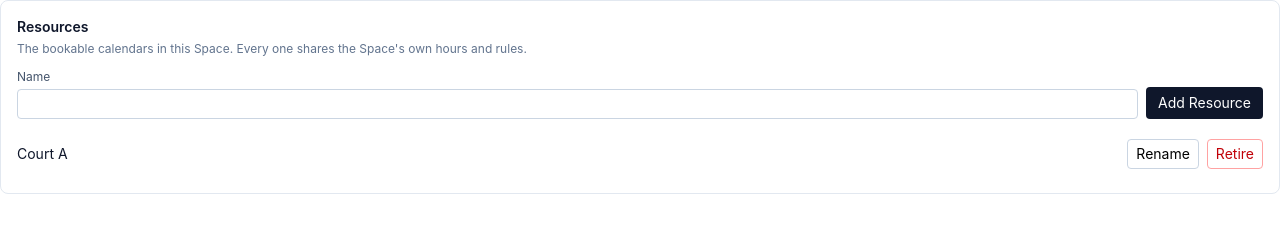
Test: ResourcesPanel › asks before retiring, and cancelling makes no request
Expected: the list item with test id "resource-1" is shown, [17, 131, 1263, 177]
Click the button with test id "resource-1-retire-start".
click(1235, 154)  # box [1207, 139, 1263, 169]
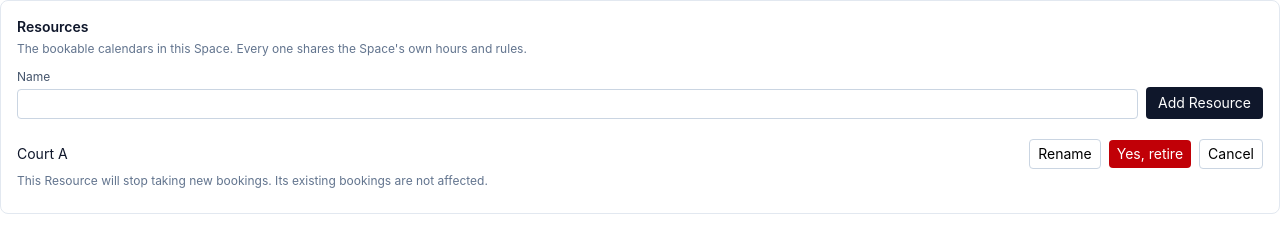
Now the element with test id "resource-1-retire-confirm" is shown, box [1109, 139, 1263, 169]
Click the button with test id "resource-1-retire-cancel".
click(1231, 154)  # box [1199, 139, 1263, 169]
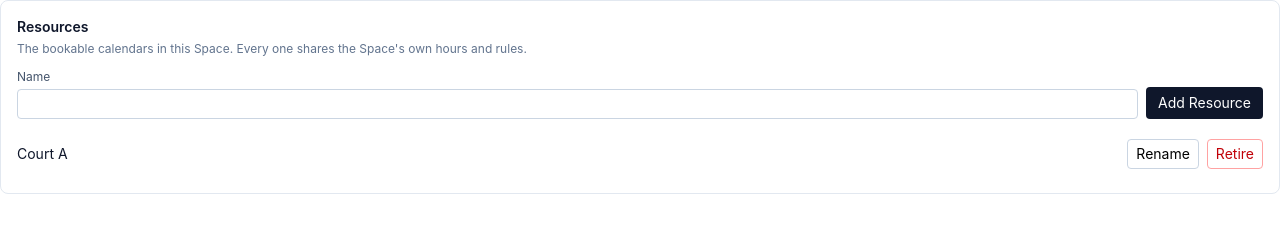
Now the element with test id "resource-1-retire-confirm" is gone
